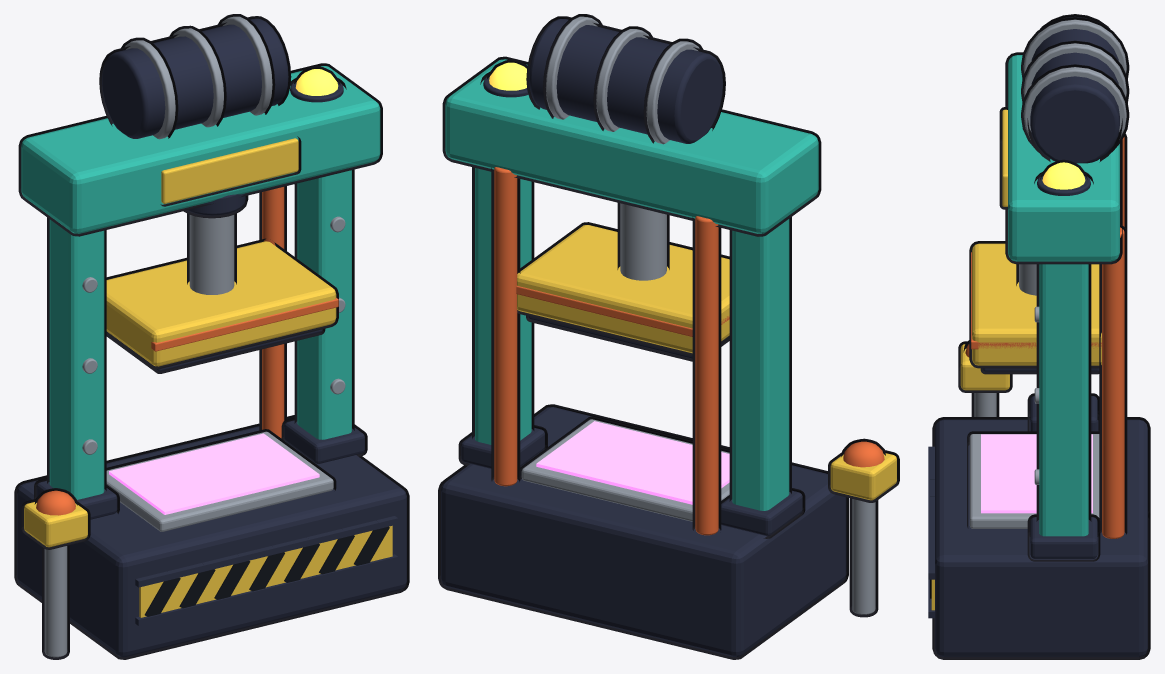
The model's file is upgrade_machine_model.glb.
3 renders of one model, left to right at view 1: azimuth 30°, elevation 25°; view 2: azimuth 150°, elevation 25°; view 3: azimuth 270°, elevation 25°, orthographic. The views are drawn at different scales.
Parts seen in each view (by area): view 1: Bed, Beam, Head, PillarL, Motor, PillarR, TrayGlow, BeamPlate, Tray, StripeBack, PipeR, Piston (+21 smaller); view 2: Bed, Beam, PillarL, Head, Motor, PipeL, PipeR, PillarR, TrayGlow, Tray, Piston, ButtonPost (+10 smaller); view 3: Bed, PillarR, Beam, Motor, Head, PipeR, TrayGlow, Tray, PillarFootR, MotorFin2, MotorFin1, MotorFin0 (+11 smaller).
Boxes of the visible parts, bbox=[...] form: Bed: bbox=[14, 415, 409, 659]; Beam: bbox=[18, 63, 382, 236]; Head: bbox=[106, 238, 338, 368]; PillarL: bbox=[47, 217, 106, 499]; Motor: bbox=[99, 16, 291, 138]; PillarR: bbox=[294, 169, 354, 439]; TrayGlow: bbox=[109, 433, 319, 514]; BeamPlate: bbox=[160, 136, 301, 206]; Tray: bbox=[106, 429, 336, 531]; StripeBack: bbox=[139, 525, 392, 617]; PipeR: bbox=[259, 186, 286, 438]; Piston: bbox=[187, 213, 236, 294]; Bed: bbox=[438, 404, 848, 659]; Beam: bbox=[442, 56, 821, 236]; PillarL: bbox=[729, 217, 791, 510]; Head: bbox=[517, 222, 729, 355]; Motor: bbox=[526, 16, 725, 143]; PipeL: bbox=[692, 216, 721, 535]; PipeR: bbox=[491, 167, 520, 486]; PillarR: bbox=[472, 167, 534, 444]; TrayGlow: bbox=[536, 421, 729, 504]; Tray: bbox=[519, 416, 729, 521]; Piston: bbox=[617, 203, 669, 280]; ButtonPost: bbox=[849, 498, 878, 617]; Bed: bbox=[932, 417, 1150, 659]; PillarR: bbox=[1036, 264, 1091, 536]; Beam: bbox=[1005, 52, 1122, 264]; Motor: bbox=[1027, 14, 1122, 163]; Head: bbox=[969, 241, 1101, 368]; PipeR: bbox=[1099, 224, 1127, 538]; TrayGlow: bbox=[981, 434, 1092, 513]; Tray: bbox=[967, 431, 1099, 528]; PillarFootR: bbox=[1027, 514, 1100, 561]; MotorFin2: bbox=[1021, 64, 1129, 152]; MotorFin1: bbox=[1021, 40, 1129, 102]; MotorFin0: bbox=[1021, 17, 1129, 78].
Bounding box in the file's own units: 1.88 × 2.7 × 0.9918.
